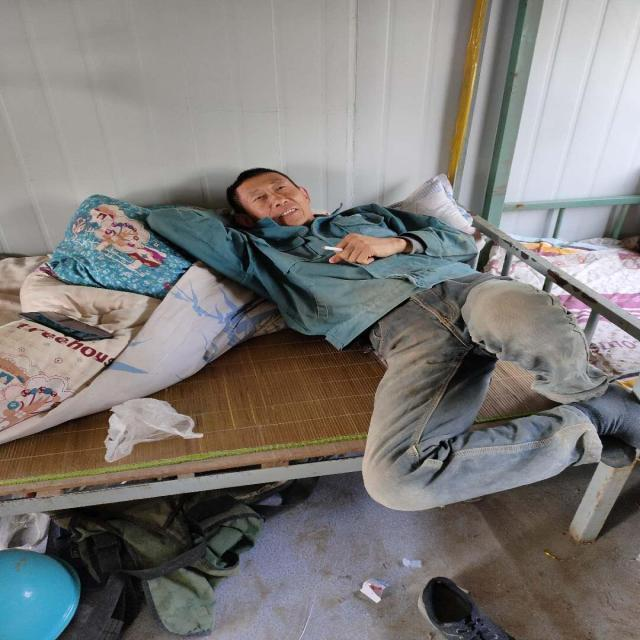rokok: (321, 245, 343, 251)
